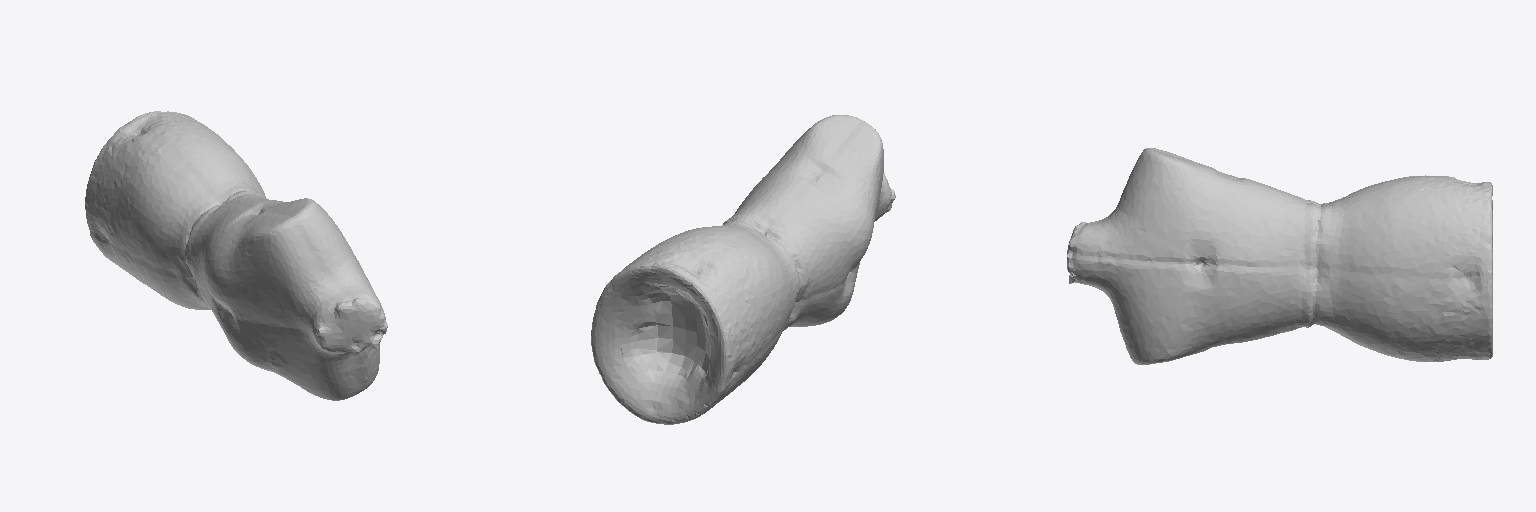
The model's file is mannequin2.obj.
3 views of the same model, side by side, from view 1: azimuth 30°, elevation 25°; view 2: azimuth 150°, elevation 25°; view 3: azimuth 270°, elevation 25° (orthographic).
Bounding box in the file's own units: 0.2905 × 0.3747 × 0.7404.